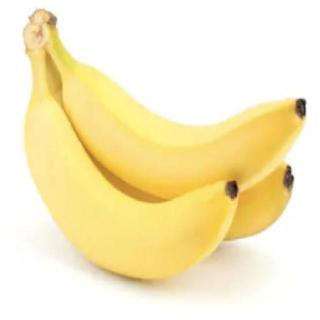banana: (22, 91, 242, 283), (47, 90, 297, 250), (60, 65, 310, 203)
